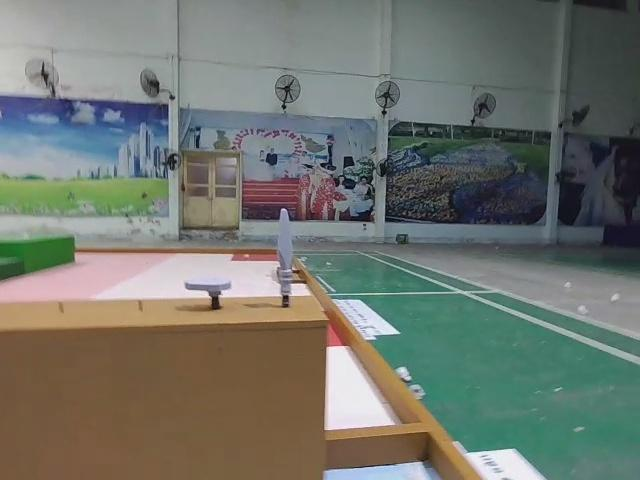Hand: (183, 277, 234, 311)
Sph: (274, 207, 295, 310)
